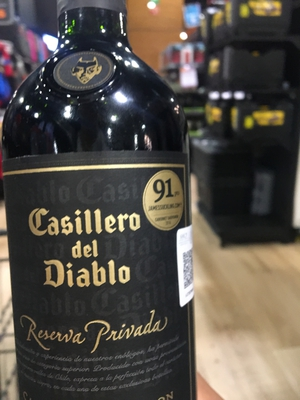casillero del diablo reserva privada cabernet sauvignon: (8, 20, 196, 400)
